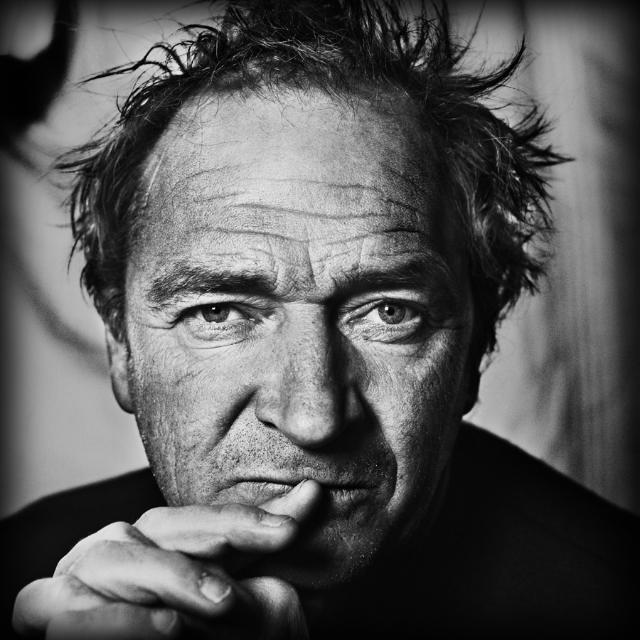crows_feet: (148, 311, 180, 339)
forehead: (204, 216, 286, 256), (300, 198, 374, 234), (278, 171, 370, 199), (387, 187, 428, 240), (177, 157, 230, 186), (315, 235, 355, 272), (192, 187, 255, 210)
frown_line: (278, 281, 326, 311), (294, 250, 324, 292)
gummy_smile: (220, 390, 258, 444), (356, 392, 394, 440)
sad_smile: (387, 456, 411, 510)
